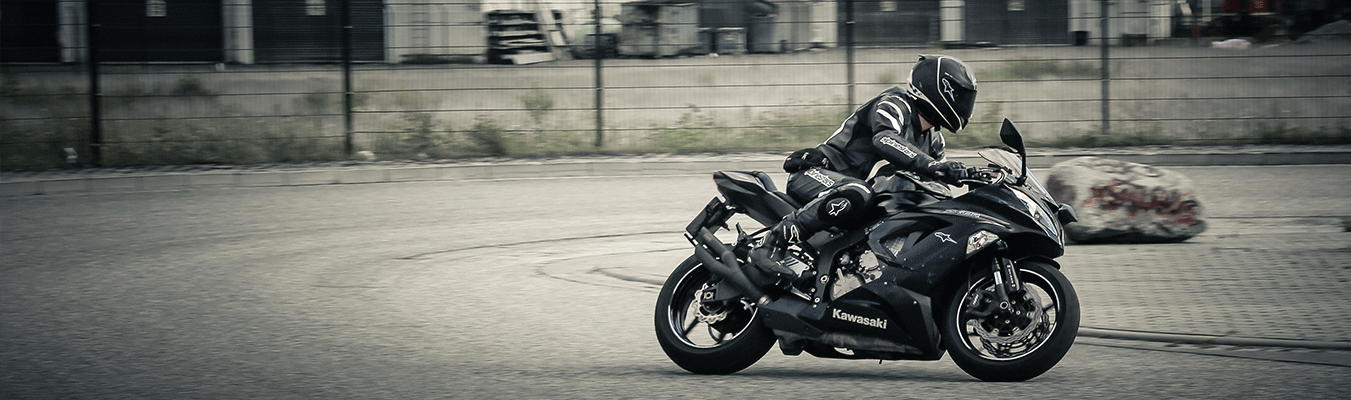helmet: (638, 45, 1154, 386)
